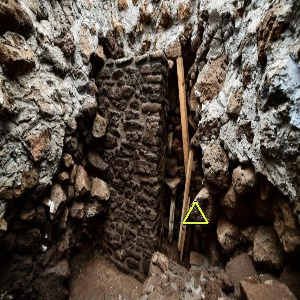triangle: (181, 197, 209, 227)
